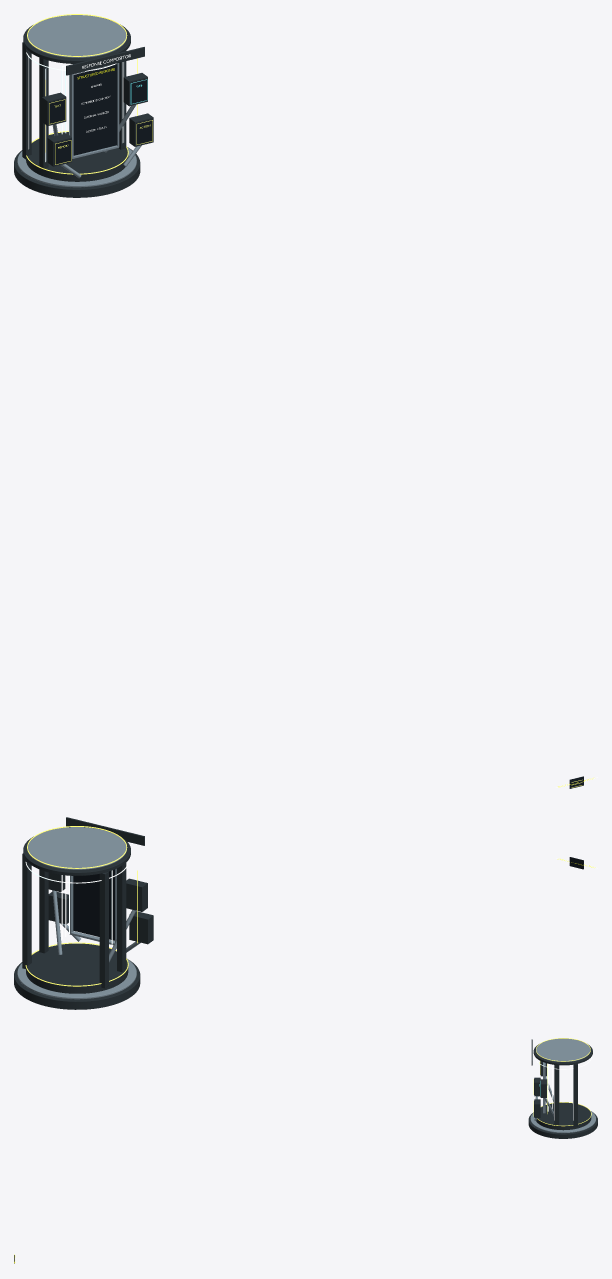
Rendered from D_response.glb.
3 views of the same model, one above another, from view 1: azimuth 30°, elevation 25°; view 2: azimuth 150°, elevation 25°; view 3: azimuth 270°, elevation 25° (orthographic). The views are drawn at different scales.
Visible parts, largest first — view 1: GEO-V014-ResponseCompositor-LoadFrame, GEO-V014-ResponseAssembly-Surface, GEO-V014-ResponseAssembly-Carrier; view 2: GEO-V014-ResponseCompositor-LoadFrame, GEO-V014-ResponseAssembly-Surface, GEO-V014-ResponseAssembly-Carrier, GEO-V014-ResponseCompositor-PracticalLines, GEO-V014-ResponseIntake-MEMORY, GEO-V014-ResponseIntake-TEXT, GEO-V014-ResponseCompositor-FrontNameplate, GEO-V014-ResponseIntake-ACTION, GEO-V014-IntakeLoadConduit-WEB, GEO-V014-ResponseIntake-WEB; view 3: GEO-V014-ResponseCompositor-LoadFrame, GEO-V014-ResponseCompositor-PracticalLines.
Boxes of the visible parts, <box> form: GEO-V014-ResponseCompositor-LoadFrame: <box>14,15,140,197</box>; GEO-V014-ResponseAssembly-Surface: <box>73,64,117,155</box>; GEO-V014-ResponseAssembly-Carrier: <box>61,63,119,158</box>; GEO-V014-ResponseCompositor-LoadFrame: <box>14,827,140,1009</box>; GEO-V014-ResponseAssembly-Surface: <box>73,869,114,940</box>; GEO-V014-ResponseAssembly-Carrier: <box>61,868,116,945</box>; GEO-V014-ResponseCompositor-PracticalLines: <box>25,826,137,986</box>; GEO-V014-ResponseIntake-MEMORY: <box>129,911,153,944</box>; GEO-V014-ResponseIntake-TEXT: <box>126,878,147,911</box>; GEO-V014-ResponseCompositor-FrontNameplate: <box>66,817,144,845</box>; GEO-V014-ResponseIntake-ACTION: <box>48,892,68,924</box>; GEO-V014-IntakeLoadConduit-WEB: <box>52,890,62,954</box>; GEO-V014-ResponseIntake-WEB: <box>48,872,65,892</box>; GEO-V014-ResponseCompositor-LoadFrame: <box>528,1038,597,1138</box>; GEO-V014-ResponseCompositor-PracticalLines: <box>535,1038,591,1126</box>.
Bounding box in the file's own units: 22 × 74.24 × 185.
